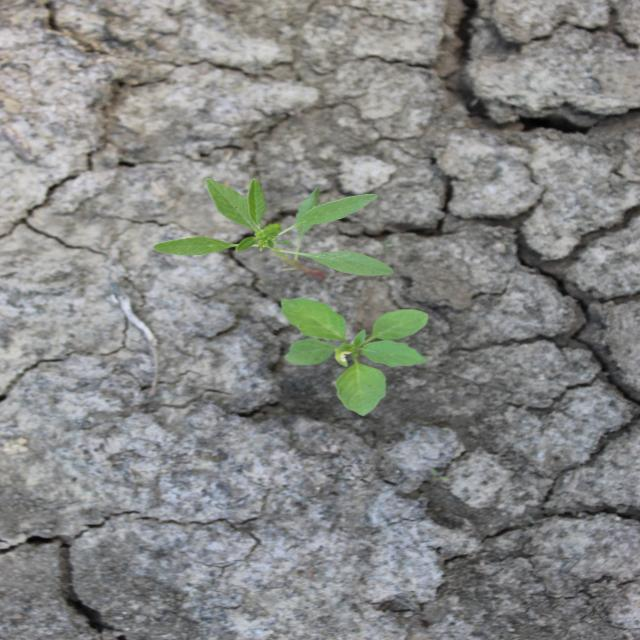CutleafGroundcherry: (278, 297, 432, 418)
Waterhemp: (150, 177, 398, 277)
